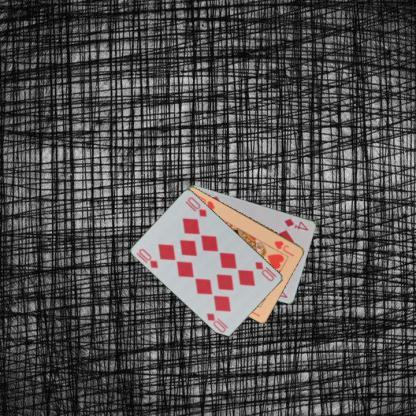10d: (252, 258, 278, 282), (136, 246, 160, 270)
4d: (282, 216, 310, 232)
Jh: (272, 238, 296, 258)
